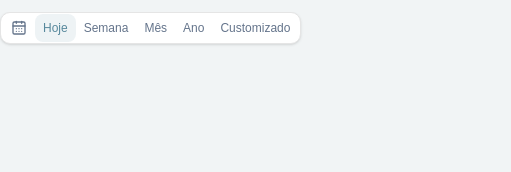
Test case: PeriodSelector › marks Customizado as selected and writes periodo_data to URL filters
The image size is (511, 172).
Click the button "Customizado" at (255, 28), box [212,14,298,42]
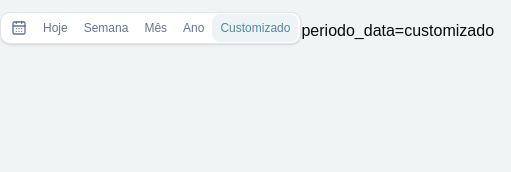
Result: the text named "query" reads "periodo_data=customizado" at [302,22,494,39]
